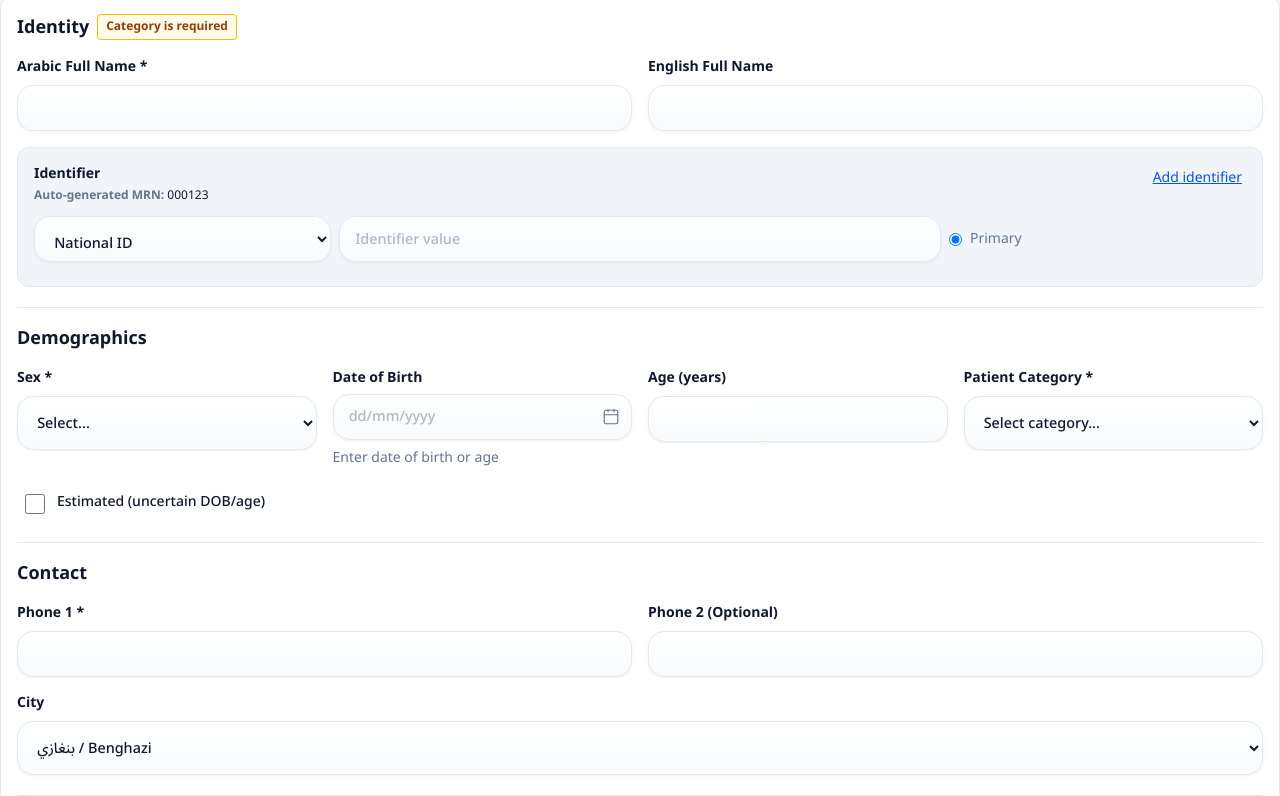
Test: PatientForm workflow hardening › blocks submit when Arabic full name contains a not-allowed word
Type "محمد عبد الله" into the field named "Arabic Full Name" at (324, 108), box [17,85,632,131]
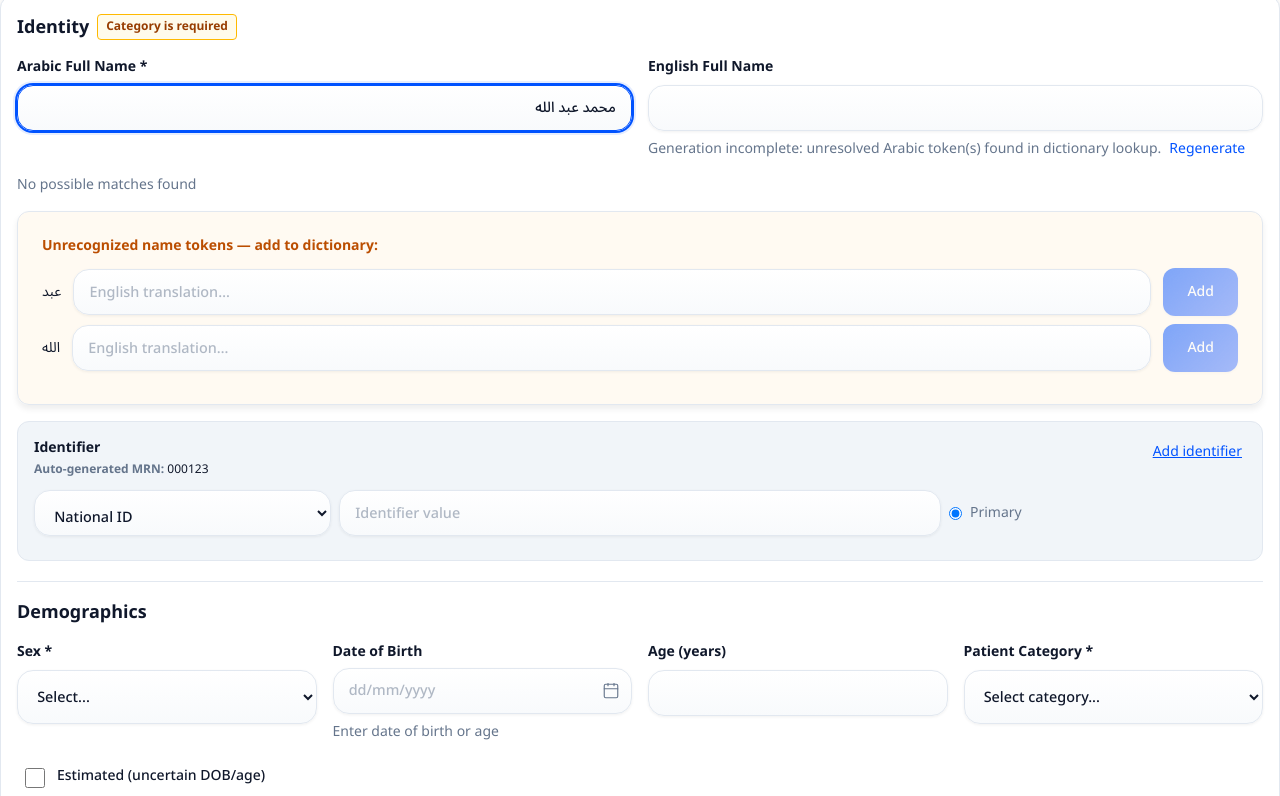
Select "Oncology" in the dropdown named "Patient Category" at (1113, 697), box [964,670,1263,724]
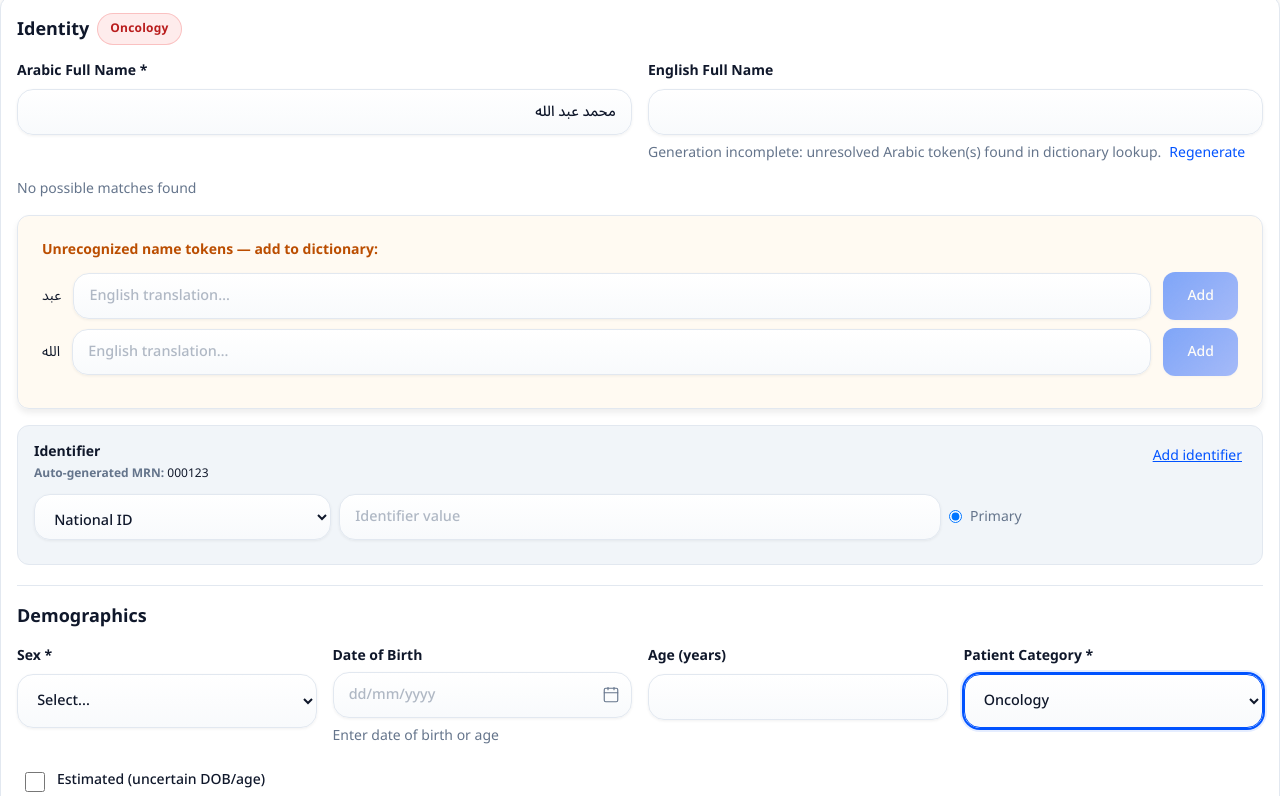
Select "Male" in the dropdown named "Sex" at (167, 701), box [17,674,316,728]
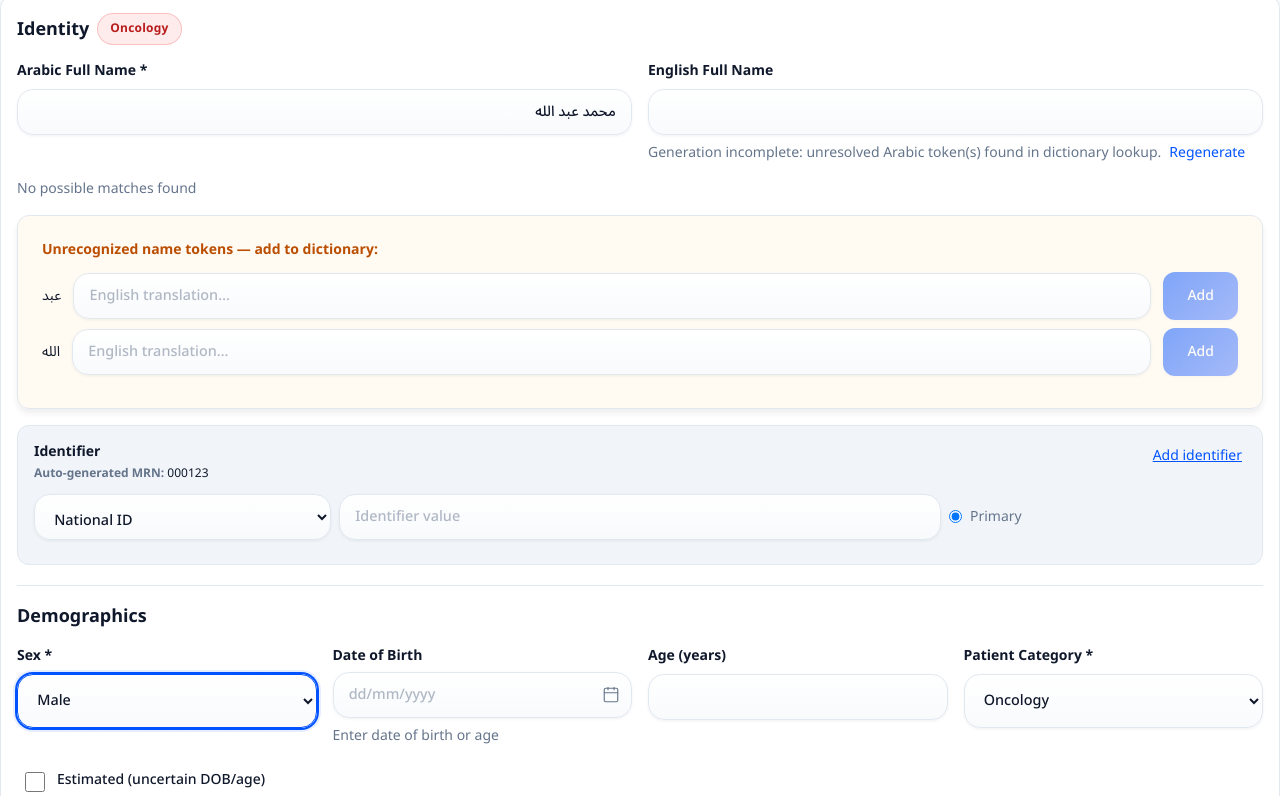
Type "30" into the number field named "Age (years)" at (798, 697), box [648,674,948,720]
(page scrolled)
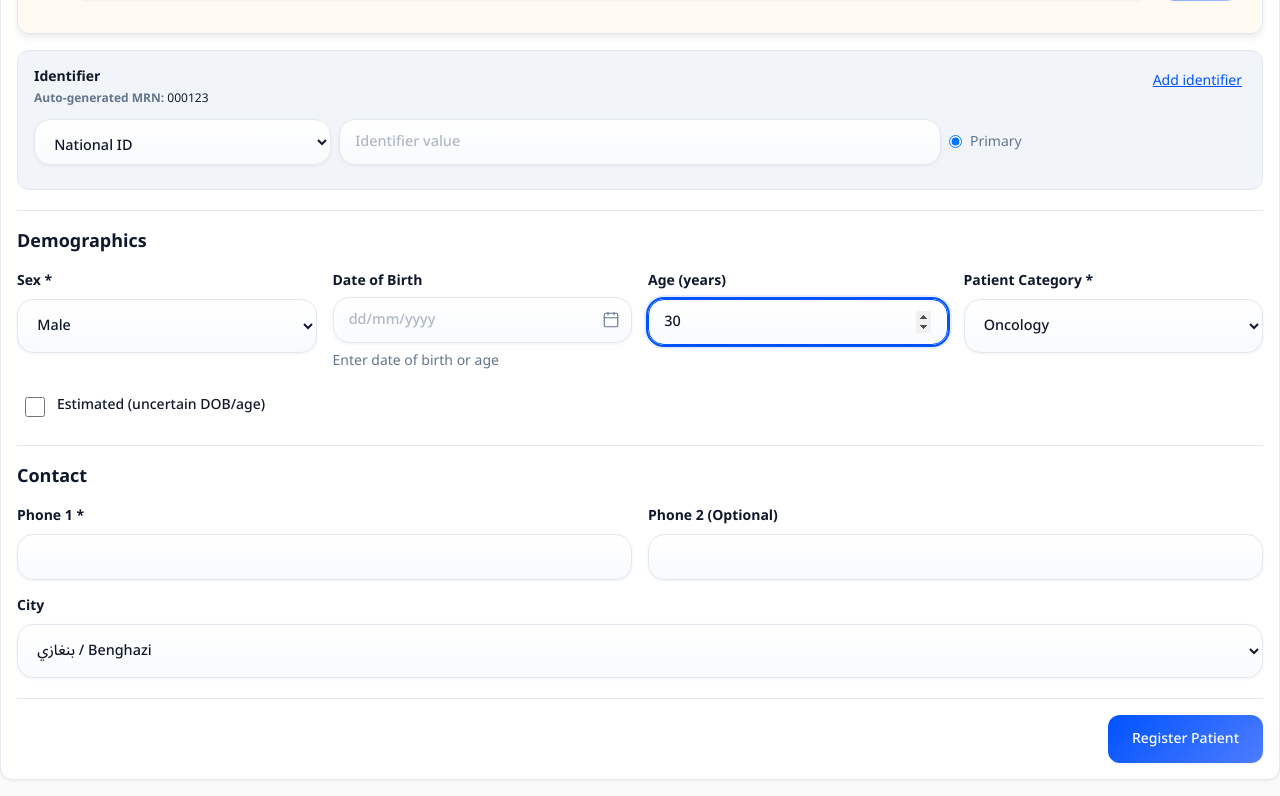
Type "0912345678" into the field named "Phone 1" at (324, 557), box [17,534,632,580]
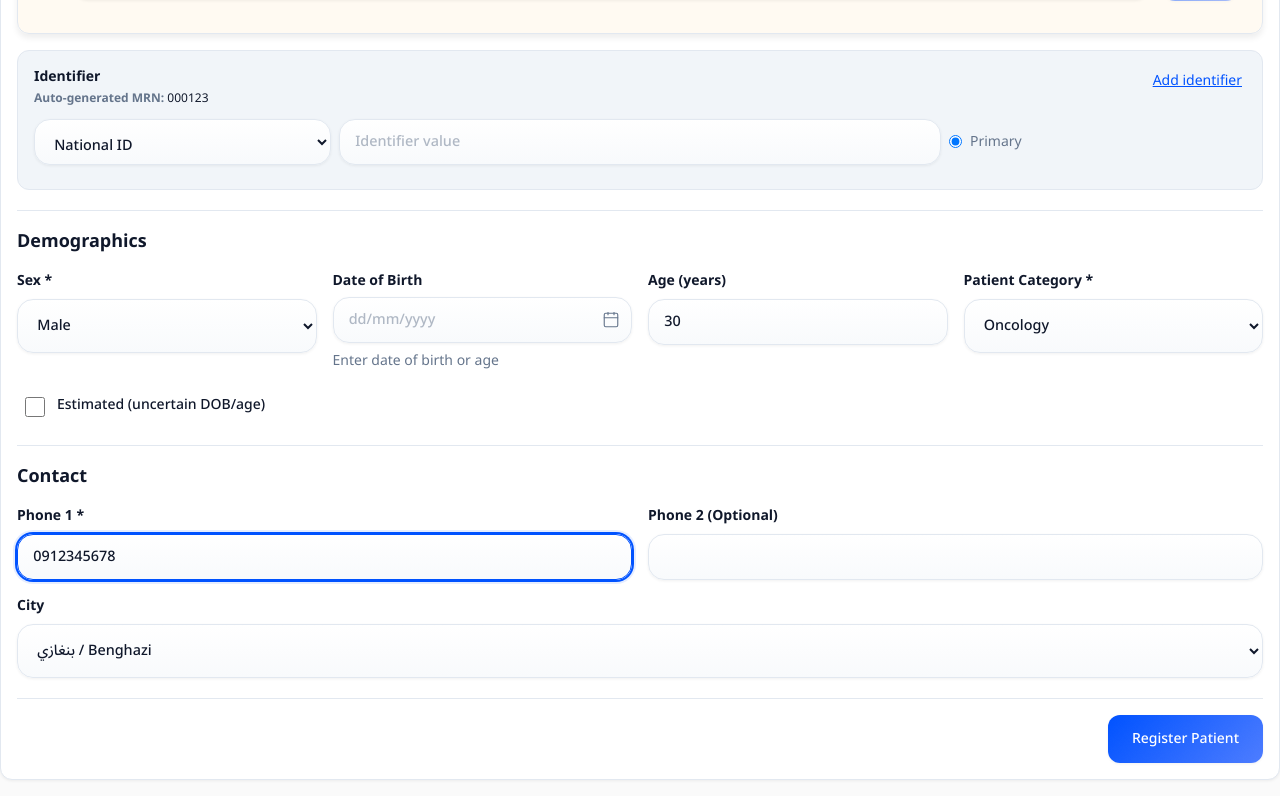
Click the button "Register Patient" at (1185, 739), box [1108,715,1263,763]
(page scrolled)
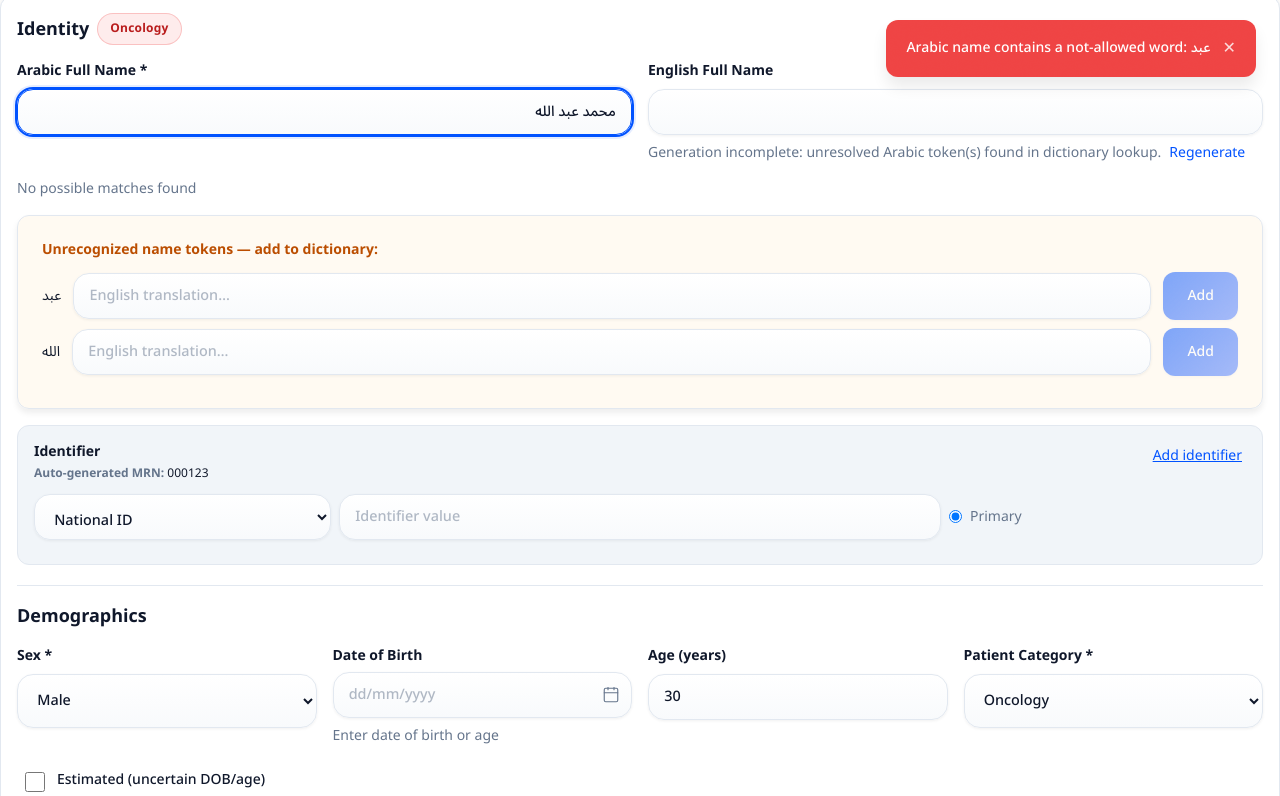
Expected: the text "Arabic name contains a not-allowed word: عبد" is shown, [906,38,1211,58]
